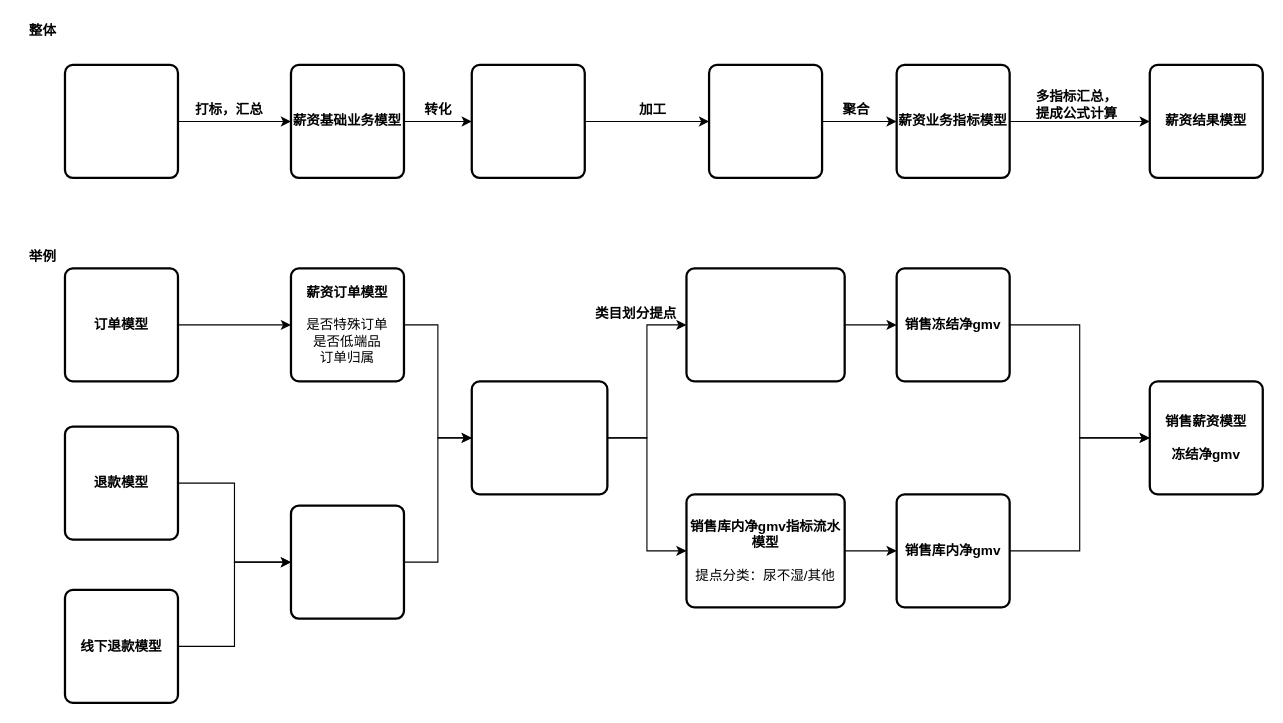
This 1283x723 diagram has some shape labels left out. Each missing label, with the centre of its shape:
"净gmv指标流水模型 类型：进项，出项 描述：退款、下单 金额：下单/退款金额" goes at [539,437].
"基础业务模型" goes at [121,121].
"薪资业务指标流水模型" goes at [765,121].
"薪资基础指标流水模型" goes at [527,121].
"薪资退款模型 是否特殊订单 是否低端品 订单归属" goes at [347,561].
"销售冻结净gmv指标流水模型 提点分类：尿不湿/其他" goes at [765,324].
